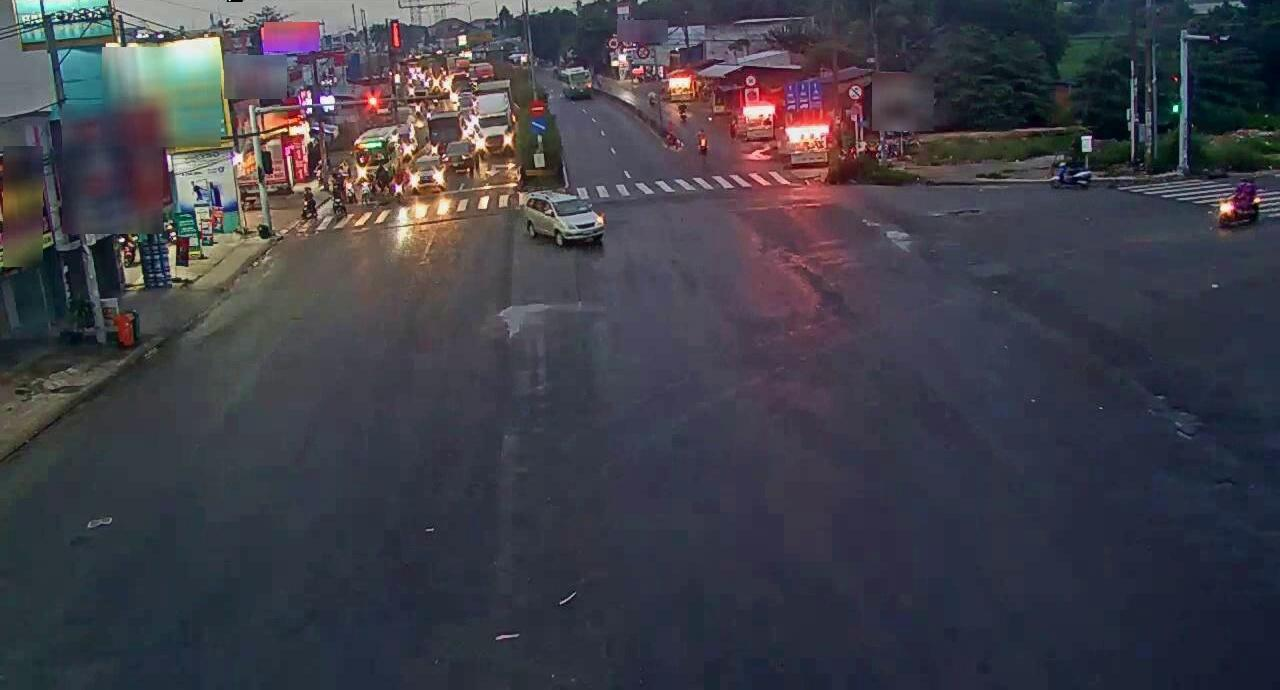xe hoi: (535, 185, 599, 243)
